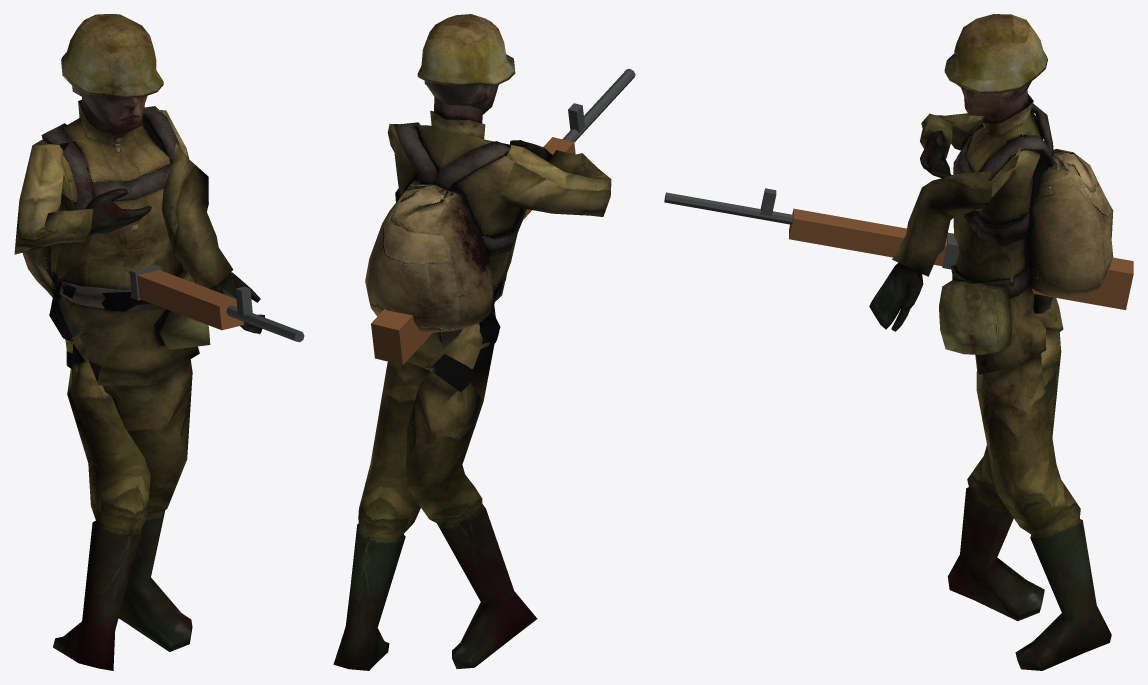
The model's file is soviet_ww2_soldier_walk_03.glb.
3 views of the same model, side by side, from view 1: azimuth 30°, elevation 25°; view 2: azimuth 150°, elevation 25°; view 3: azimuth 270°, elevation 25° (orthographic). The views are drawn at different scales.
Visible parts, largest first — view 1: final_Static, SovietRifle_Generated; view 2: final_Static, SovietRifle_Generated; view 3: final_Static, SovietRifle_Generated.
Part boxes in pixels (<box>): final_Static: <box>14,14,264,670</box>; SovietRifle_Generated: <box>129,264,304,342</box>; final_Static: <box>333,14,611,670</box>; SovietRifle_Generated: <box>371,69,635,364</box>; final_Static: <box>869,14,1113,670</box>; SovietRifle_Generated: <box>664,188,1133,309</box>.
Size of the model in its own units: 0.6324 by 1.75 by 1.22.
3 materials, 1 textured.
